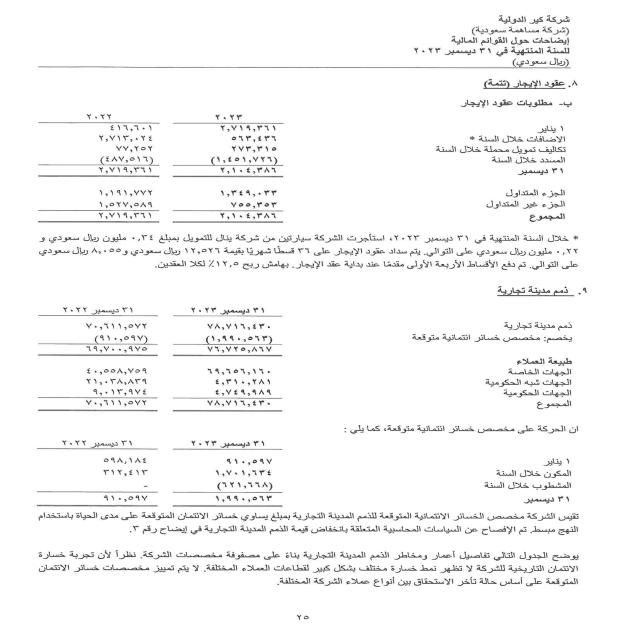notes: (434, 37, 576, 47)
table: (22, 294, 292, 419), (18, 108, 294, 230), (23, 428, 286, 512)
